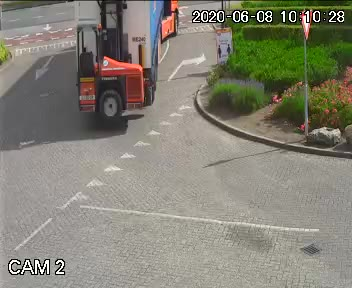car: (54, 0, 203, 138)
